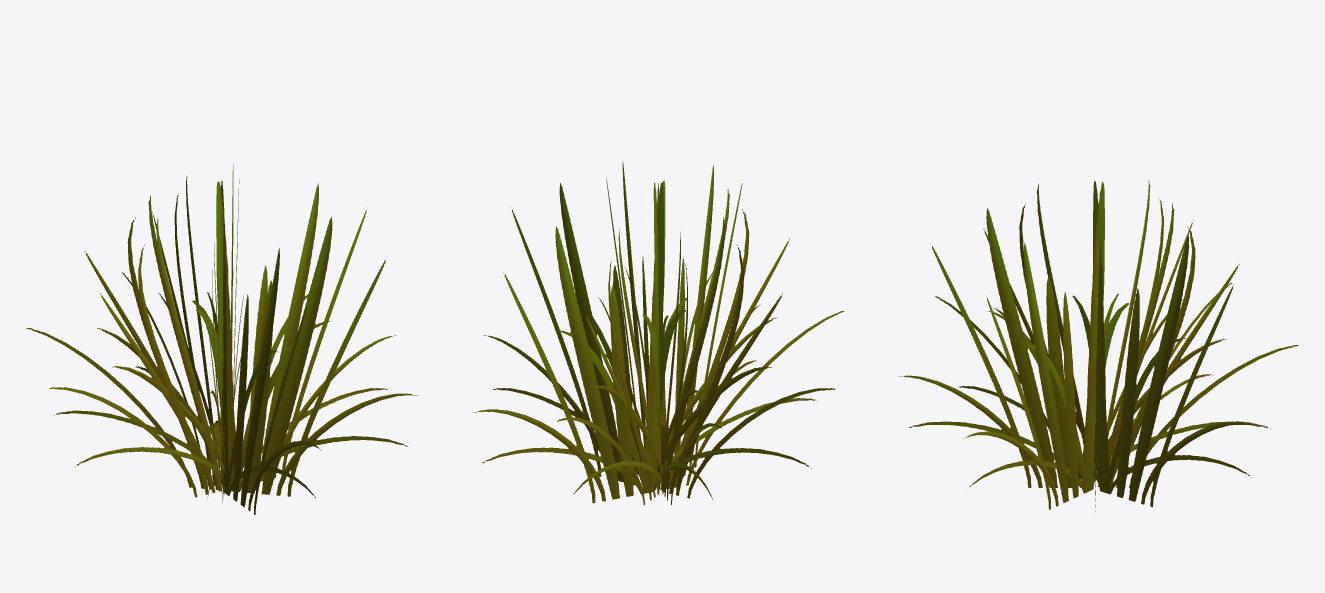
Rendered from FRM0210008.fbx.
3 renders of one model, left to right at view 1: azimuth 30°, elevation 25°; view 2: azimuth 150°, elevation 25°; view 3: azimuth 270°, elevation 25°, orthographic.
Visible parts, largest first — view 1: smFRM0210008; view 2: smFRM0210008; view 3: smFRM0210008.
Boxes of the visible parts, x1,y1,x2,y2 form: smFRM0210008: (26,164,417,514); smFRM0210008: (473,161,844,505); smFRM0210008: (898,180,1298,515).
Bounding box in the file's own units: 52.71 × 52.7 × 52.71.
1 material, 1 textured.
